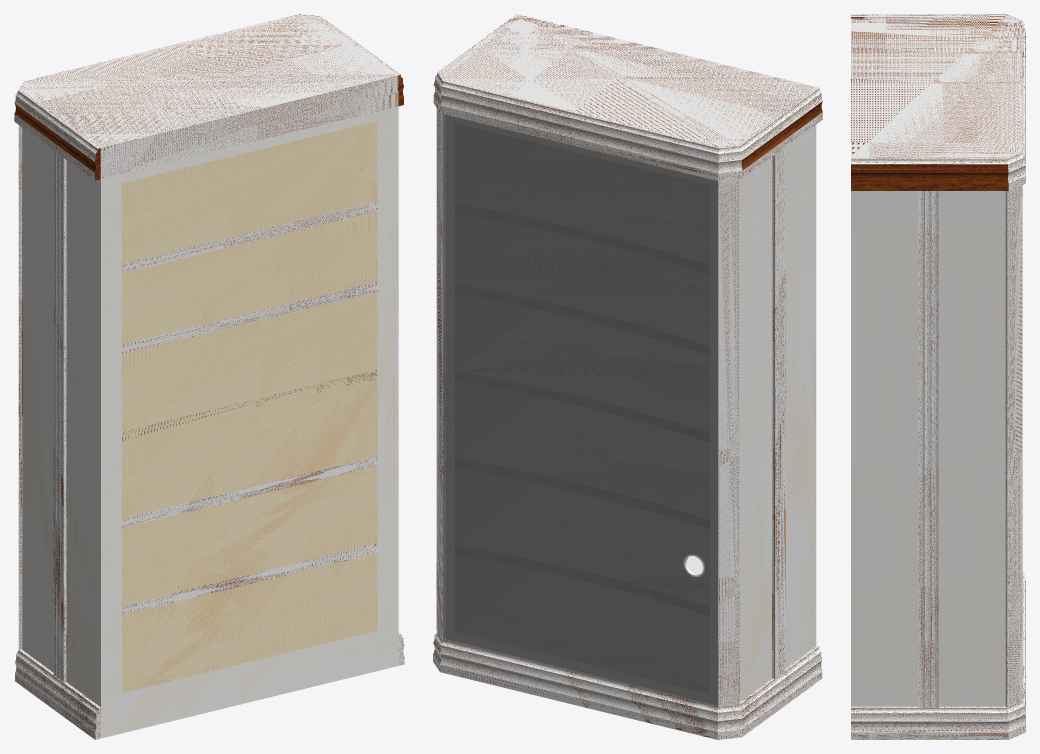
3 views of the same model, side by side, from view 1: azimuth 30°, elevation 25°; view 2: azimuth 150°, elevation 25°; view 3: azimuth 270°, elevation 25° (orthographic).
Visible parts, largest first — view 1: mesh1_mesh1-geometry; view 2: mesh1_mesh1-geometry; view 3: mesh1_mesh1-geometry.
Boxes of the visible parts, x1,y1,x2,y2 form: mesh1_mesh1-geometry: [14, 14, 404, 739]; mesh1_mesh1-geometry: [433, 14, 822, 739]; mesh1_mesh1-geometry: [851, 14, 1025, 739].
Size of the model in its own units: 0.4679 by 0.8524 by 0.2334.
